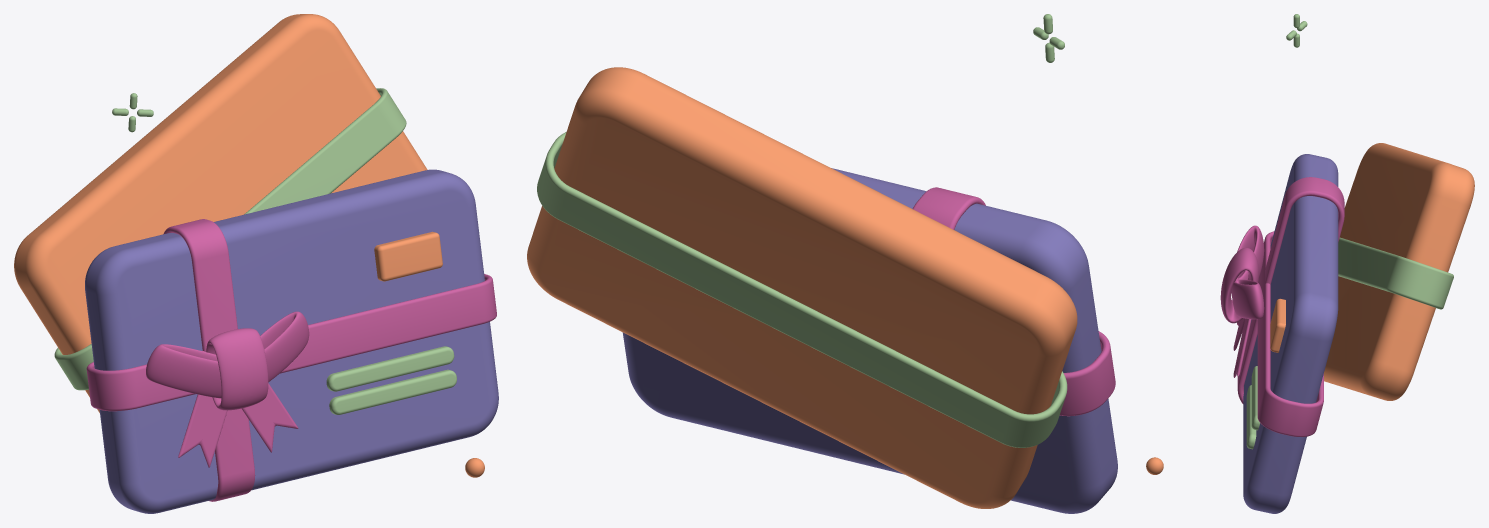
Rendered from gift-card-3d-animated-icon-997989851742.glb.
The picture shows the model from 3 angles, left to right: view 1: azimuth 30°, elevation 25°; view 2: azimuth 150°, elevation 25°; view 3: azimuth 270°, elevation 25°; orthographic projection. The views are drawn at different scales.
Visible parts, largest first — view 1: Cube, Cube.001, Circle.001, Plane, Plane.001, Plane.003, Cube.007, Cube.005, Cube.006; view 2: Cube.001, Cube, Plane.003, Plane, Plane.001; view 3: Cube.001, Cube, Plane.003, Plane, Circle.001, Plane.001, Cube.007, Cube.005, Cube.006.
Part boxes in pixels (box(x1,y1,x2,y2)): Cube: box(85, 169, 498, 513); Cube.001: box(14, 14, 427, 412); Circle.001: box(146, 311, 309, 467); Plane: box(86, 274, 496, 411); Plane.001: box(163, 219, 255, 501); Plane.003: box(54, 88, 406, 390); Cube.007: box(374, 231, 442, 281); Cube.005: box(326, 346, 454, 391); Cube.006: box(329, 369, 456, 414); Cube.001: box(527, 67, 1077, 508); Cube: box(622, 168, 1117, 513); Plane.003: box(537, 132, 1067, 447); Plane: box(1059, 331, 1115, 416); Plane.001: box(912, 187, 985, 229); Cube.001: box(1324, 143, 1474, 400); Cube: box(1243, 154, 1338, 513); Plane.003: box(1338, 237, 1453, 309); Plane: box(1257, 231, 1323, 437); Circle.001: box(1220, 225, 1264, 377); Plane.001: box(1237, 177, 1344, 403); Cube.007: box(1270, 298, 1285, 352); Cube.005: box(1251, 366, 1259, 430); Cube.006: box(1246, 385, 1256, 449).
Bounding box in the file's own units: 1.52 × 1.41 × 1.15.
